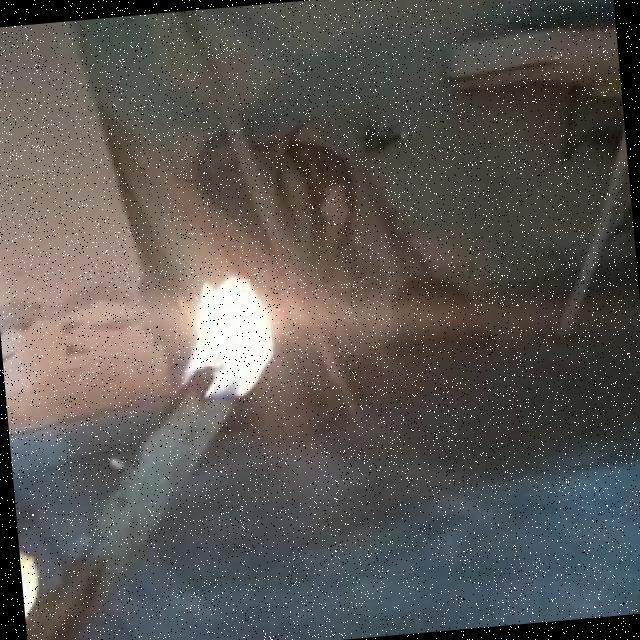Fire: (118, 242, 315, 417)
